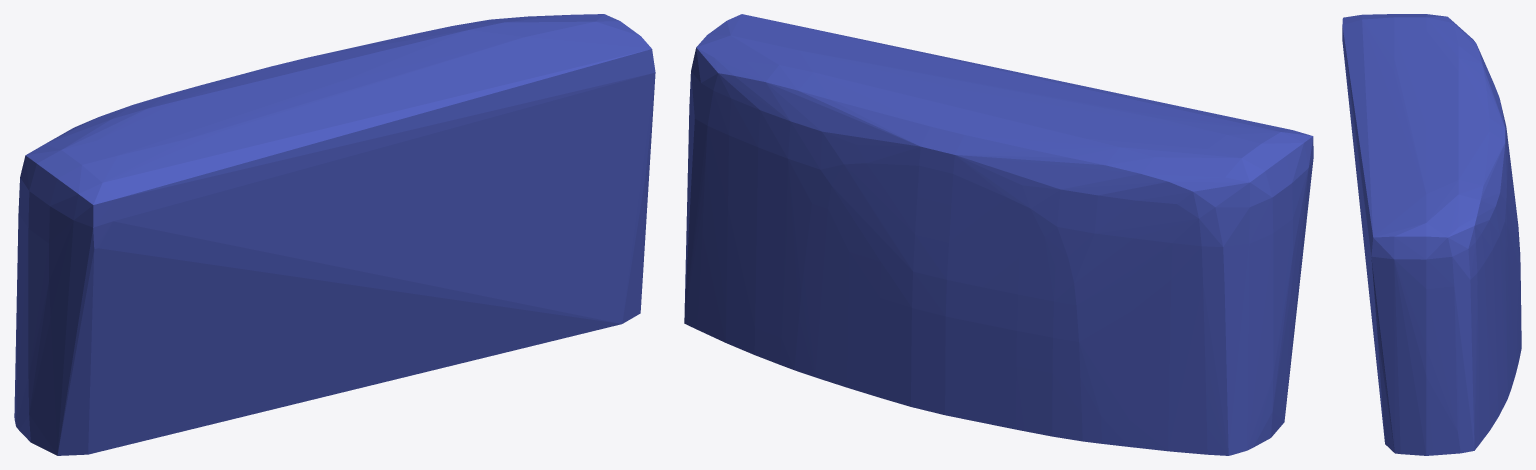
File: right-shoulder-pitch-0_part_47.obj
3 views of the same model, side by side, from view 1: azimuth 30°, elevation 25°; view 2: azimuth 150°, elevation 25°; view 3: azimuth 270°, elevation 25° (orthographic). The views are drawn at different scales.
Bounding box in the file's own units: 0.0288 × 0.0131 × 0.00952.
